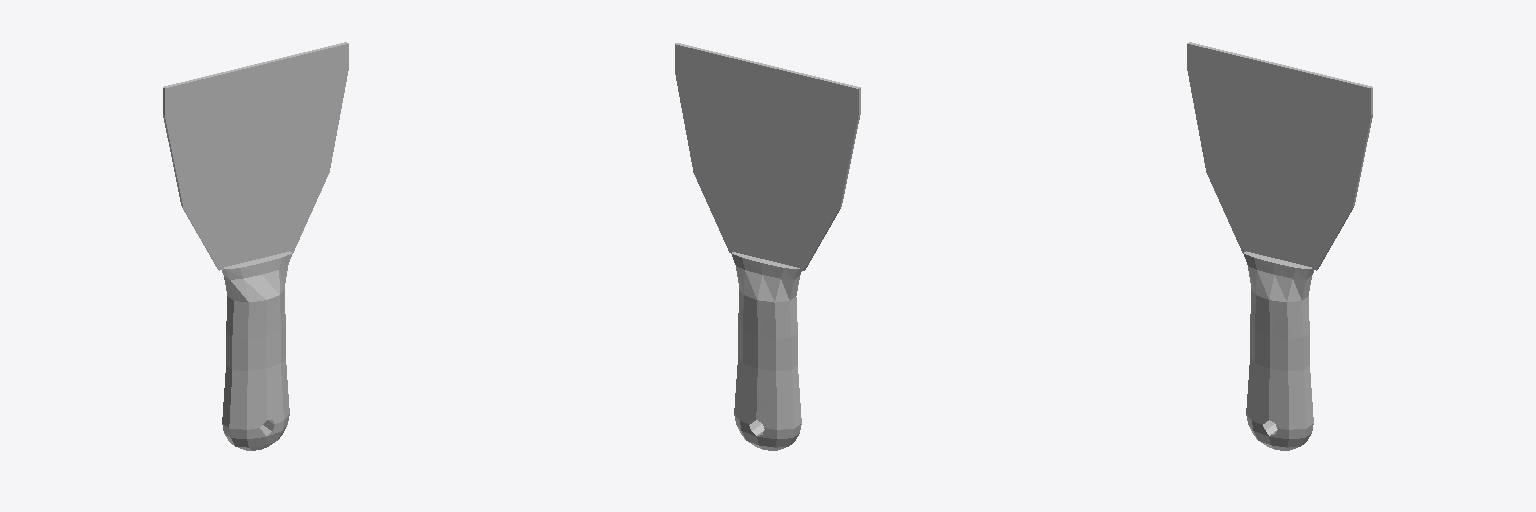
The model's file is Scraper.obj.
3 views of the same model, side by side, from view 1: azimuth 30°, elevation 25°; view 2: azimuth 150°, elevation 25°; view 3: azimuth 330°, elevation 25° (orthographic).
Visible parts, largest first — view 1: toolsFBXASC046spatula; view 2: toolsFBXASC046spatula; view 3: toolsFBXASC046spatula.
Boxes of the visible parts, x1=… form: toolsFBXASC046spatula: x1=163, y1=42, x2=348, y2=450; toolsFBXASC046spatula: x1=675, y1=43, x2=860, y2=450; toolsFBXASC046spatula: x1=1187, y1=42, x2=1372, y2=450.
Size of the model in its own units: 31.62 by 62.58 by 6.82.